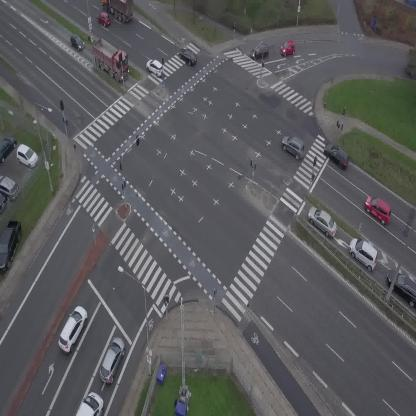car: (53, 303, 92, 354), (95, 335, 129, 385), (343, 234, 384, 272), (303, 203, 343, 240), (360, 192, 397, 226), (320, 140, 354, 171), (277, 131, 309, 161), (143, 56, 167, 79), (176, 45, 200, 66), (65, 32, 86, 54), (94, 9, 113, 28), (279, 40, 297, 57), (249, 44, 269, 59)
lorry: (83, 33, 138, 84), (101, 0, 133, 22), (75, 392, 103, 416)
